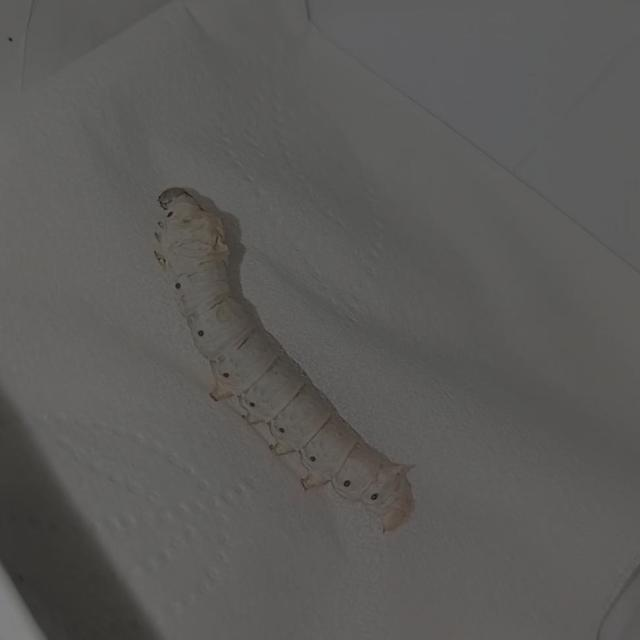Healthy: (131, 167, 449, 543)
